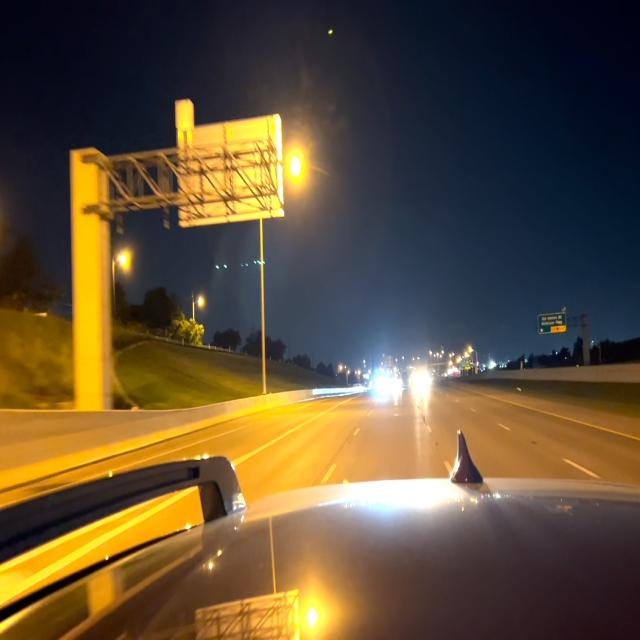back-of-sign: (174, 130, 284, 222), (176, 99, 194, 128)
